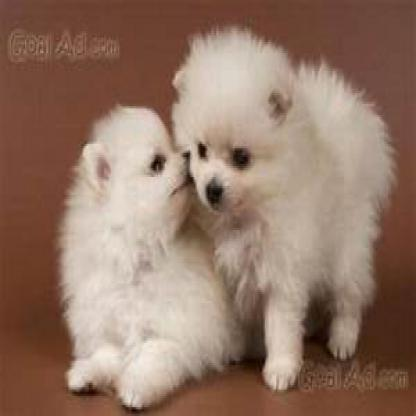dog: (172, 13, 398, 394), (51, 100, 193, 412)
